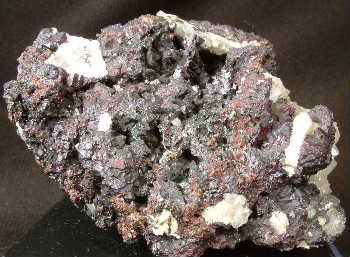cuprite: (145, 21, 295, 256), (3, 28, 87, 172), (296, 105, 336, 176), (110, 194, 145, 244)
